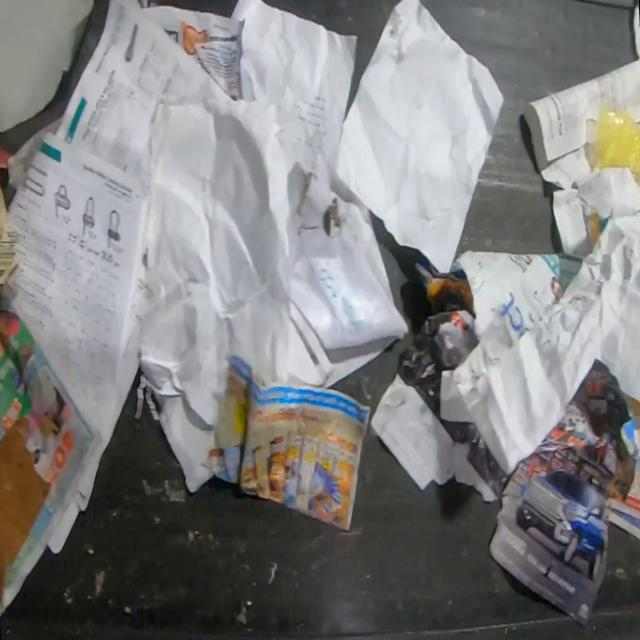cardboard: (0, 180, 20, 288)
soft_plastic: (595, 95, 639, 182)
